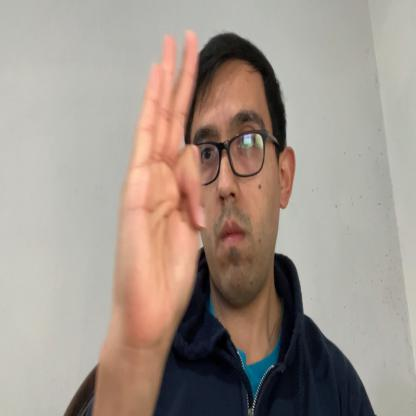F: (114, 29, 206, 341)
